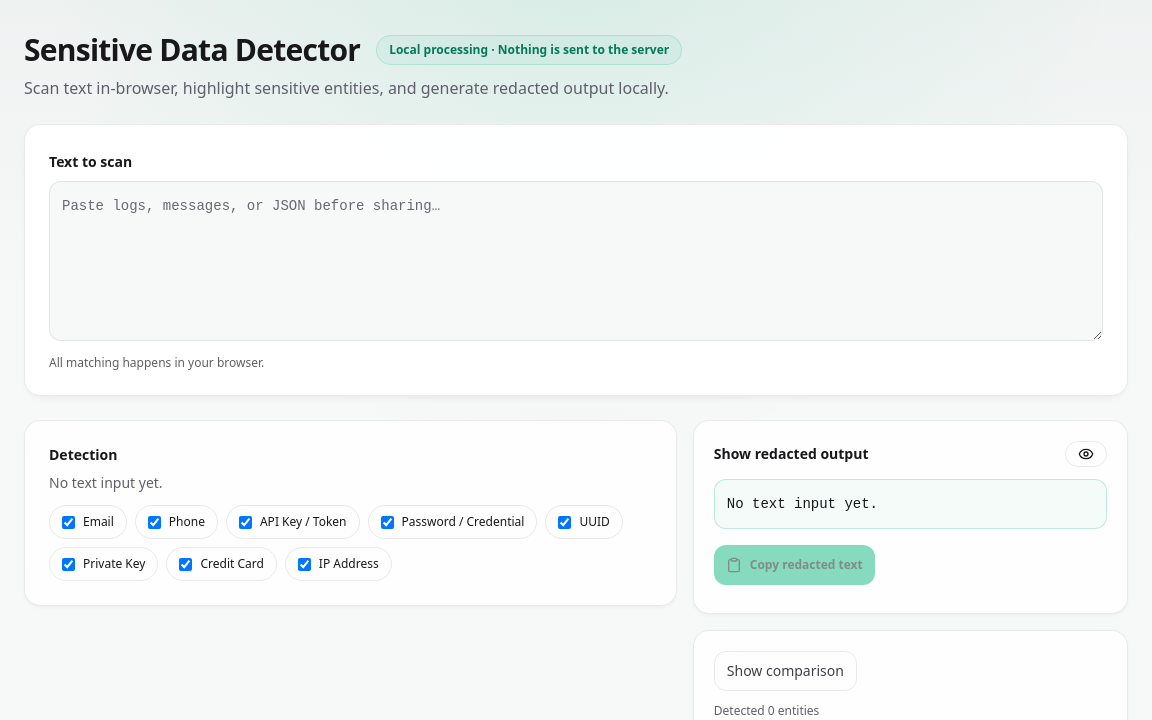
Scenario: SensitiveDataClient › detects and highlights sensitive content
The image size is (1152, 720).
In the text box labelled "Text to scan": (576, 261) x1=49 y1=181 x2=1103 y2=341, type "alice@example.com sk-abcdefghij1234567890"
(page scrolled)
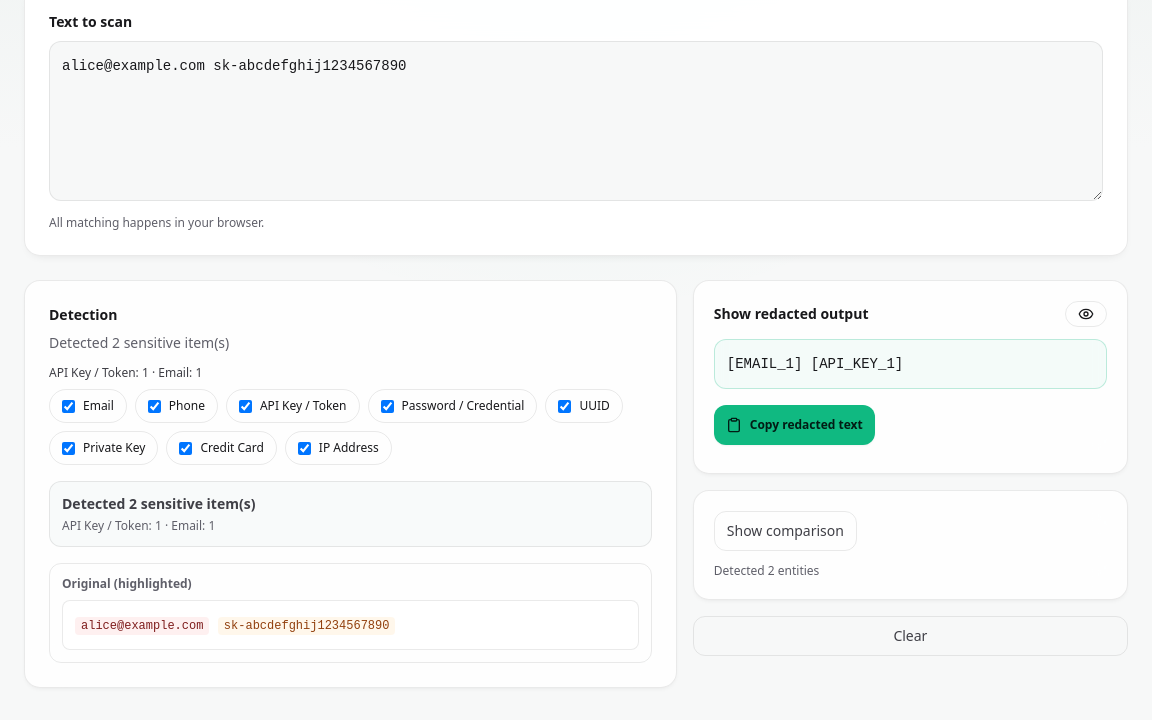
Expected: the text "Detected 2 sensitive item(s)" is shown 2 times, x1=49 y1=333 x2=229 y2=352; x1=62 y1=494 x2=255 y2=513
Expected: the text "alice@example.com" is shown, x1=75 y1=617 x2=209 y2=635
